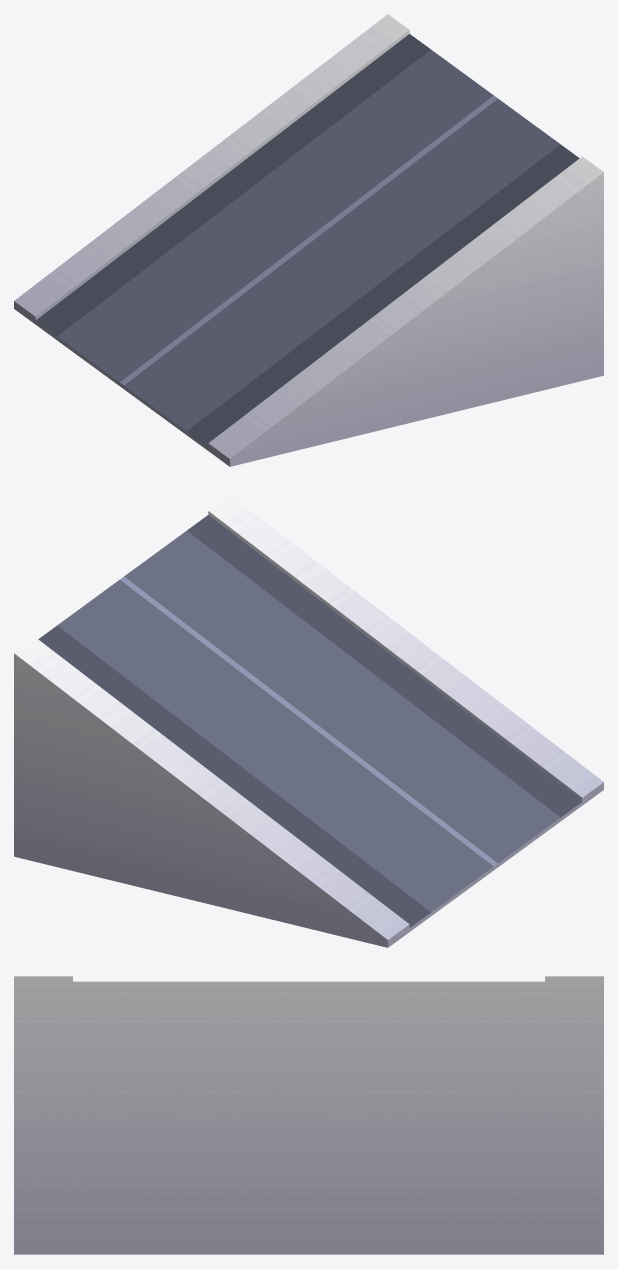
File: road-slant-high.glb
3 renders of one model, top to bottom at view 1: azimuth 30°, elevation 25°; view 2: azimuth 150°, elevation 25°; view 3: azimuth 270°, elevation 25°, orthographic. The views are drawn at different scales.
Parts seen in each view (by area): view 1: road-slant-high; view 2: road-slant-high; view 3: road-slant-high.
Boxes of the visible parts, box(x1,y1,x2,y2) form: road-slant-high: box(14, 14, 603, 466); road-slant-high: box(14, 495, 603, 947); road-slant-high: box(14, 976, 603, 1254).
Bounding box in the file's own units: 1 × 0.52 × 1.
Materials: 1 (1 with a texture image).
